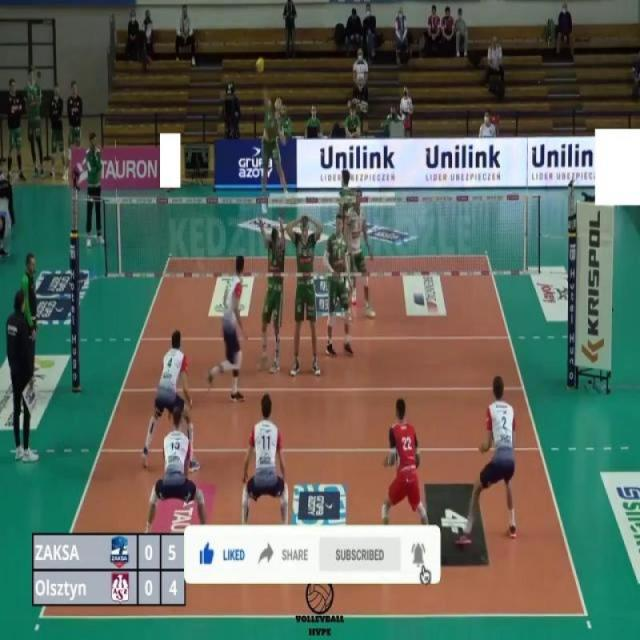volleyball: (254, 56, 266, 76)
